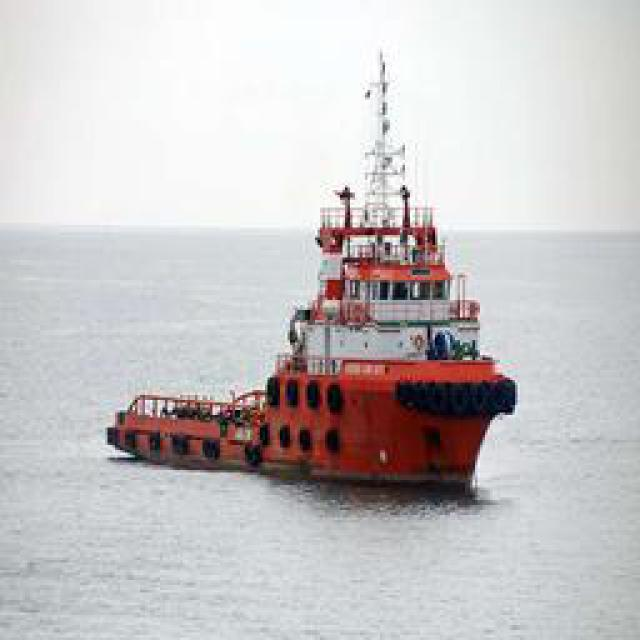Ship: (133, 56, 511, 491)
